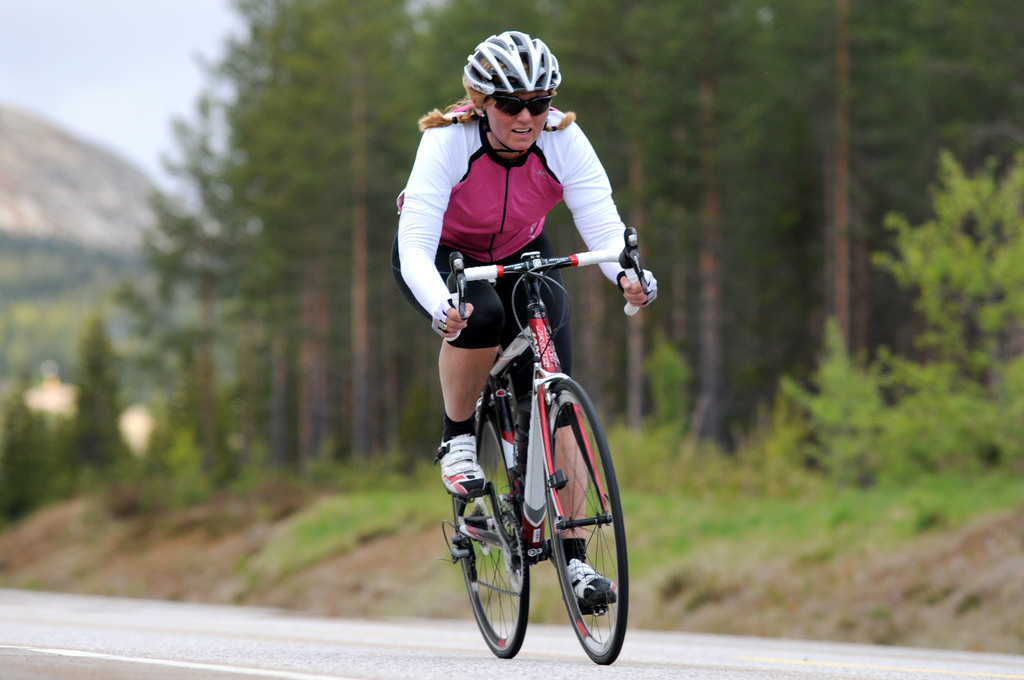Bike_toward: (438, 230, 665, 670)
